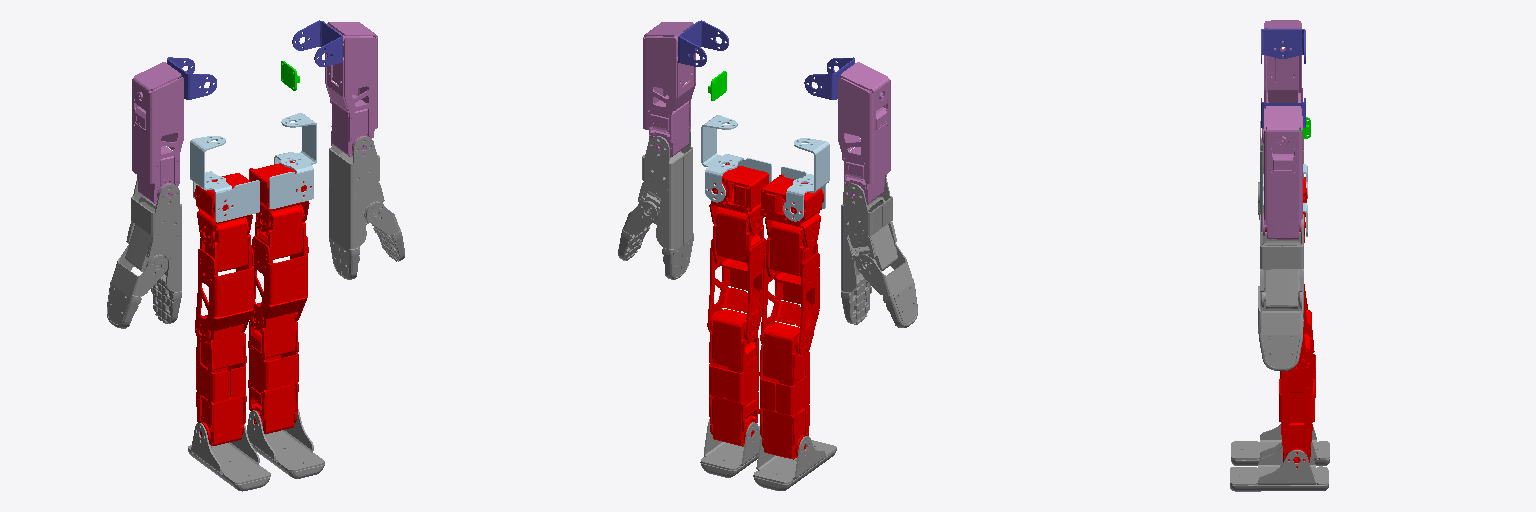
The robot description file, URDF, robot "z-bot2_fe_urdf":
<?xml version="1.0" ?>
<robot name="z-bot2_fe_urdf">
  <joint name="imu" type="fixed">
    <origin xyz="0.041000 0.010001 -0.030001" rpy="1.570000 0 -1.570000"/>
    <parent link="Z-BOT2_MASTER-BODY-SKELETON"/>
    <child link="IMU"/>
  </joint>
  <joint name="left_shoulder_yaw" type="revolute">
    <origin xyz="0.060002 -0.011000 -0.010001" rpy="1.570000 0 -3.140000"/>
    <parent link="Z-BOT2_MASTER-BODY-SKELETON"/>
    <child link="Z-BOT2-MASTER-SHOULDER2"/>
    <limit effort="2" velocity="2" lower="-1.047198" upper="0"/>
    <axis xyz="0 0 1"/>
  </joint>
  <joint name="right_shoulder_yaw" type="revolute">
    <origin xyz="-0.060000 -0.011000 -0.010001" rpy="-1.570000 0 0"/>
    <parent link="Z-BOT2_MASTER-BODY-SKELETON"/>
    <child link="Z-BOT2-MASTER-SHOULDER2_2"/>
    <limit effort="2" velocity="2" lower="0" upper="1.047198"/>
    <axis xyz="0 0 1"/>
  </joint>
  <joint name="left_hip_yaw" type="revolute">
    <origin xyz="0.040000 0.009998 -0.079000" rpy="3.140000 0 3.140000"/>
    <parent link="Z-BOT2_MASTER-BODY-SKELETON"/>
    <child link="U-HIP-L"/>
    <limit effort="2" velocity="2" lower="-1.047198" upper="1.047198"/>
    <axis xyz="0 0 1"/>
  </joint>
  <joint name="right_hip_yaw" type="revolute">
    <origin xyz="-0.040000 0.009998 -0.079000" rpy="3.140000 0 3.140000"/>
    <parent link="Z-BOT2_MASTER-BODY-SKELETON"/>
    <child link="U-HIP-R"/>
    <limit effort="2" velocity="2" lower="-1.047198" upper="1.047198"/>
    <axis xyz="0 0 1"/>
  </joint>
  <joint name="left_shoulder_pitch" type="revolute">
    <origin xyz="-0.020845 -0.004900 0.018800" rpy="-1.570796 0 -1.570796"/>
    <parent link="Z-BOT2-MASTER-SHOULDER2"/>
    <child link="3215_1Flange"/>
    <limit effort="2" velocity="2" lower="-2.967060" upper="3.141593"/>
    <axis xyz="0 0 1"/>
  </joint>
  <joint name="right_shoulder_pitch" type="revolute">
    <origin xyz="-0.020845 0.004900 0.018800" rpy="1.570796 0 1.570796"/>
    <parent link="Z-BOT2-MASTER-SHOULDER2_2"/>
    <child link="3215_1Flange_2"/>
    <limit effort="2" velocity="2" lower="-3.141593" upper="2.967060"/>
    <axis xyz="0 0 1"/>
  </joint>
  <joint name="left_hip_roll" type="revolute">
    <origin xyz="0 0.017700 0.056400" rpy="-1.570796 0 0"/>
    <parent link="U-HIP-L"/>
    <child link="3215_BothFlange_5"/>
    <limit effort="2" velocity="2" lower="-0.174533" upper="1.570796"/>
    <axis xyz="0 0 -1.0"/>
  </joint>
  <joint name="right_hip_roll" type="revolute">
    <origin xyz="0 -0.017700 0.056400" rpy="-1.570796 0 -3.141593"/>
    <parent link="U-HIP-R"/>
    <child link="3215_BothFlange_6"/>
    <limit effort="2" velocity="2" lower="-1.570796" upper="0.174533"/>
    <axis xyz="0 0 1"/>
  </joint>
  <joint name="left_hip_pitch" type="revolute">
    <origin xyz="-0.006400 -0.032000 -0.017900" rpy="1.570796 0 -1.570796"/>
    <parent link="3215_BothFlange_5"/>
    <child link="3215_BothFlange_9"/>
    <limit effort="2" velocity="2" lower="-1.570796" upper="1.570796"/>
    <axis xyz="0 0 1"/>
  </joint>
  <joint name="right_hip_pitch" type="revolute">
    <origin xyz="-0.006400 -0.032000 -0.018900" rpy="1.570796 0 -1.570796"/>
    <parent link="3215_BothFlange_6"/>
    <child link="3215_BothFlange_10"/>
    <limit effort="2" velocity="2" lower="-1.570796" upper="1.570796"/>
    <axis xyz="0 0 1"/>
  </joint>
  <joint name="left_elbow" type="revolute">
    <origin xyz="0.092984 0.019800 -0.018600" rpy="1.570796 0 3.141593"/>
    <parent link="3215_1Flange"/>
    <child link="R-ARM-MIRROR-1"/>
    <limit effort="2" velocity="2" lower="-1.570796" upper="1.570796"/>
    <axis xyz="0 0 -1"/>
  </joint>
  <joint name="right_elbow" type="revolute">
    <origin xyz="0.092984 -0.019800 -0.018600" rpy="-1.570796 -1.570796 0"/>
    <parent link="3215_1Flange_2"/>
    <child link="L-ARM-MIRROR_1"/>
    <limit effort="2" velocity="2" lower="-1.570796" upper="1.570796"/>
    <axis xyz="0 0 1"/>
  </joint>
  <joint name="left_knee" type="revolute">
    <origin xyz="0.100000 0.010000 -0.001260" rpy="0 0 0"/>
    <parent link="3215_BothFlange_9"/>
    <child link="3215_BothFlange_13"/>
    <limit effort="2" velocity="2" lower="-1.221731" upper="2.792527"/>
    <axis xyz="0 0 1"/>
  </joint>
  <joint name="right_knee" type="revolute">
    <origin xyz="0.100000 -0.010000 -0.001260" rpy="0 0 0"/>
    <parent link="3215_BothFlange_10"/>
    <child link="3215_BothFlange_14"/>
    <limit effort="2" velocity="2" lower="-2.792527" upper="1.221731"/>
    <axis xyz="0 0 1"/>
  </joint>
  <joint name="left_gripper" type="revolute">
    <origin xyz="-0.066206 -0.011778 0.001260" rpy="3.141593 0 1.919862"/>
    <parent link="R-ARM-MIRROR-1"/>
    <child link="FINGER_1"/>
    <limit effort="2" velocity="2" lower="-0.349066" upper="0.698132"/>
    <axis xyz="0 0 1"/>
  </joint>
  <joint name="right_gripper" type="revolute">
    <origin xyz="-0.011778 0.066206 -0.001260" rpy="0 0 0.349066"/>
    <parent link="L-ARM-MIRROR_1"/>
    <child link="FINGER_1_2"/>
    <limit effort="2" velocity="2" lower="-0.698132" upper="0.349066"/>
    <axis xyz="0 0 1"/>
  </joint>
  <joint name="left_ankle" type="revolute">
    <origin xyz="0.100000 0 0.000800" rpy="-3.141593 0 1.570796"/>
    <parent link="3215_BothFlange_13"/>
    <child link="FOOT"/>
    <limit effort="2" velocity="2" lower="-1.570796" upper="1.570796"/>
    <axis xyz="0 0 1"/>
  </joint>
  <joint name="right_ankle" type="revolute">
    <origin xyz="0.100000 0 0.001000" rpy="-3.141593 0 -1.570796"/>
    <parent link="3215_BothFlange_14"/>
    <child link="FOOT_2"/>
    <limit effort="2" velocity="2" lower="-1.570796" upper="1.570796"/>
    <axis xyz="0 0 1"/>
  </joint>
  <link name="Z-BOT2_MASTER-BODY-SKELETON">
    <visual name="Z-BOT2_MASTER-BODY-SKELETON_visual">
      <origin xyz="0 0 0" rpy="0 0 0"/>
      <geometry name="Z-BOT2_MASTER-BODY-SKELETON_geometry">
        <mesh filename="meshes/Z-BOT2_MASTER-BODY-SKELETON.stl"/>
      </geometry>
      <material name="Z-BOT2_MASTER-BODY-SKELETON_material">
        <color rgba="0.494118 0.623529 0.749020 1"/>
      </material>
    </visual>
    <collision name="Z-BOT2_MASTER-BODY-SKELETON.collision">
      <origin xyz="0 0 0" rpy="0 0 0"/>
      <geometry name="Z-BOT2_MASTER-BODY-SKELETON_collision_geometry">
        <mesh filename="meshes/Z-BOT2_MASTER-BODY-SKELETON.collision.stl"/>
      </geometry>
    </collision>
    <inertial name="Z-BOT2_MASTER-BODY-SKELETON_inertial">
      <mass value="1.546392"/>
      <inertia ixx="0.004795" iyy="0.005455" izz="0.002588" ixy="0.000008" ixz="0.000010" iyz="-0.000041"/>
      <origin xyz="-0.000189 0.010193 -0.031201" rpy="0 0 0"/>
    </inertial>
  </link>
  <link name="IMU">
    <visual name="IMU_visual">
      <origin xyz="0 0 0" rpy="0 0 0"/>
      <geometry name="IMU_geometry">
        <mesh filename="meshes/IMU.stl"/>
      </geometry>
      <material name="IMU_material">
        <color rgba="0 1 0 1"/>
      </material>
    </visual>
    <inertial name="IMU_inertial">
      <mass value="0.001887"/>
      <inertia ixx="0.000001" iyy="0.000001" izz="0.000001" ixy="0" ixz="0" iyz="0"/>
      <origin xyz="-0.010000 -0.007500 -0.001235" rpy="0 0 0"/>
    </inertial>
  </link>
  <link name="Z-BOT2-MASTER-SHOULDER2">
    <visual name="Z-BOT2-MASTER-SHOULDER2_visual">
      <origin xyz="0 0 0" rpy="0 0 0"/>
      <geometry name="Z-BOT2-MASTER-SHOULDER2_geometry">
        <mesh filename="meshes/Z-BOT2-MASTER-SHOULDER2.stl"/>
      </geometry>
      <material name="Z-BOT2-MASTER-SHOULDER2_material">
        <color rgba="0.364706 0.360784 0.749020 1"/>
      </material>
    </visual>
    <inertial name="Z-BOT2-MASTER-SHOULDER2_inertial">
      <mass value="0.024098"/>
      <inertia ixx="0.000007" iyy="0.000008" izz="0.000003" ixy="0" ixz="0" iyz="0"/>
      <origin xyz="-0.012788 0.001374 0.018800" rpy="0 0 0"/>
    </inertial>
  </link>
  <link name="Z-BOT2-MASTER-SHOULDER2_2">
    <visual name="Z-BOT2-MASTER-SHOULDER2_visual_2">
      <origin xyz="0 0 0" rpy="0 0 0"/>
      <geometry name="Z-BOT2-MASTER-SHOULDER2_geometry_2">
        <mesh filename="meshes/Z-BOT2-MASTER-SHOULDER2_2.stl"/>
      </geometry>
      <material name="Z-BOT2-MASTER-SHOULDER2_material_2">
        <color rgba="0.364706 0.360784 0.749020 1"/>
      </material>
    </visual>
    <inertial name="Z-BOT2-MASTER-SHOULDER2_inertial_2">
      <mass value="0.024098"/>
      <inertia ixx="0.000007" iyy="0.000008" izz="0.000003" ixy="0" ixz="0" iyz="0"/>
      <origin xyz="-0.012788 -0.001374 0.018800" rpy="0 0 0"/>
    </inertial>
  </link>
  <link name="U-HIP-L">
    <visual name="U-HIP-L_visual">
      <origin xyz="0 0 0" rpy="0 0 0"/>
      <geometry name="U-HIP-L_geometry">
        <mesh filename="meshes/U-HIP-L.stl"/>
      </geometry>
      <material name="U-HIP-L_material">
        <color rgba="0.768627 0.886275 0.952941 1"/>
      </material>
    </visual>
    <inertial name="U-HIP-L_inertial">
      <mass value="0.047132"/>
      <inertia ixx="0.000029" iyy="0.000030" izz="0.000019" ixy="0.000004" ixz="-0.000008" iyz="0.000004"/>
      <origin xyz="-0.001161 -0.004396 0.035396" rpy="0 0 0"/>
    </inertial>
  </link>
  <link name="U-HIP-R">
    <visual name="U-HIP-R_visual">
      <origin xyz="0 0 0" rpy="0 0 0"/>
      <geometry name="U-HIP-R_geometry">
        <mesh filename="meshes/U-HIP-R.stl"/>
      </geometry>
      <material name="U-HIP-R_material">
        <color rgba="0.768627 0.886275 0.952941 1"/>
      </material>
    </visual>
    <inertial name="U-HIP-R_inertial">
      <mass value="0.047132"/>
      <inertia ixx="0.000029" iyy="0.000030" izz="0.000019" ixy="-0.000004" ixz="0.000008" iyz="0.000004"/>
      <origin xyz="0.001161 -0.004396 0.035396" rpy="0 0 0"/>
    </inertial>
  </link>
  <link name="3215_1Flange">
    <visual name="3215_1Flange_visual">
      <origin xyz="0 0 0" rpy="0 0 0"/>
      <geometry name="3215_1Flange_geometry">
        <mesh filename="meshes/3215_1Flange.stl"/>
      </geometry>
      <material name="3215_1Flange_material">
        <color rgba="0.749020 0.498039 0.725490 1"/>
      </material>
    </visual>
    <collision name="3215_1Flange.collision">
      <origin xyz="0 0 0" rpy="0 0 0"/>
      <geometry name="3215_1Flange_collision_geometry">
        <mesh filename="meshes/3215_1Flange.collision.stl"/>
      </geometry>
    </collision>
    <inertial name="3215_1Flange_inertial">
      <mass value="0.181960"/>
      <inertia ixx="0.000054" iyy="0.000228" izz="0.000232" ixy="-0.000004" ixz="0.000006" iyz="0"/>
      <origin xyz="0.033642 0.000438 -0.019963" rpy="0 0 0"/>
    </inertial>
  </link>
  <link name="3215_1Flange_2">
    <visual name="3215_1Flange_visual_2">
      <origin xyz="0 0 0" rpy="0 0 0"/>
      <geometry name="3215_1Flange_geometry_2">
        <mesh filename="meshes/3215_1Flange_2.stl"/>
      </geometry>
      <material name="3215_1Flange_material_2">
        <color rgba="0.749020 0.498039 0.725490 1"/>
      </material>
    </visual>
    <collision name="3215_1Flange.collision_2">
      <origin xyz="0 0 0" rpy="0 0 0"/>
      <geometry name="3215_1Flange_collision_geometry_2">
        <mesh filename="meshes/3215_1Flange_2.collision.stl"/>
      </geometry>
    </collision>
    <inertial name="3215_1Flange_inertial_2">
      <mass value="0.181960"/>
      <inertia ixx="0.000054" iyy="0.000228" izz="0.000232" ixy="0.000004" ixz="0.000006" iyz="0"/>
      <origin xyz="0.033642 -0.000433 -0.019968" rpy="0 0 0"/>
    </inertial>
  </link>
  <link name="3215_BothFlange_5">
    <visual name="3215_BothFlange_visual_5">
      <origin xyz="0 0 0" rpy="0 0 0"/>
      <geometry name="3215_BothFlange_geometry_5">
        <mesh filename="meshes/3215_BothFlange_5.stl"/>
      </geometry>
      <material name="3215_BothFlange_material_5">
        <color rgba="1 0 0 1"/>
      </material>
    </visual>
    <inertial name="3215_BothFlange_inertial_5">
      <mass value="0.068295"/>
      <inertia ixx="0.000019" iyy="0.000024" izz="0.000025" ixy="0" ixz="0" iyz="0"/>
      <origin xyz="0.012332 -0.008997 -0.018508" rpy="0 0 0"/>
    </inertial>
  </link>
  <link name="3215_BothFlange_6">
    <visual name="3215_BothFlange_visual_6">
      <origin xyz="0 0 0" rpy="0 0 0"/>
      <geometry name="3215_BothFlange_geometry_6">
        <mesh filename="meshes/3215_BothFlange_6.stl"/>
      </geometry>
      <material name="3215_BothFlange_material_6">
        <color rgba="1 0 0 1"/>
      </material>
    </visual>
    <inertial name="3215_BothFlange_inertial_6">
      <mass value="0.068295"/>
      <inertia ixx="0.000019" iyy="0.000024" izz="0.000025" ixy="0" ixz="0" iyz="0"/>
      <origin xyz="0.012332 -0.008983 -0.017811" rpy="0 0 0"/>
    </inertial>
  </link>
  <link name="3215_BothFlange_9">
    <visual name="3215_BothFlange_visual_9">
      <origin xyz="0 0 0" rpy="0 0 0"/>
      <geometry name="3215_BothFlange_geometry_9">
        <mesh filename="meshes/3215_BothFlange_9.stl"/>
      </geometry>
      <material name="3215_BothFlange_material_9">
        <color rgba="1 0 0 1"/>
      </material>
    </visual>
    <collision name="3215_BothFlange.collision_9">
      <origin xyz="0 0 0" rpy="0 0 0"/>
      <geometry name="3215_BothFlange_collision_geometry_9">
        <mesh filename="meshes/3215_BothFlange_9.collision.stl"/>
      </geometry>
    </collision>
    <inertial name="3215_BothFlange_inertial_9">
      <mass value="0.143337"/>
      <inertia ixx="0.000049" iyy="0.000148" izz="0.000128" ixy="0.000003" ixz="0.000002" iyz="0"/>
      <origin xyz="0.043662 -0.002857 -0.018525" rpy="0 0 0"/>
    </inertial>
  </link>
  <link name="3215_BothFlange_10">
    <visual name="3215_BothFlange_visual_10">
      <origin xyz="0 0 0" rpy="0 0 0"/>
      <geometry name="3215_BothFlange_geometry_10">
        <mesh filename="meshes/3215_BothFlange_10.stl"/>
      </geometry>
      <material name="3215_BothFlange_material_10">
        <color rgba="1 0 0 1"/>
      </material>
    </visual>
    <collision name="3215_BothFlange.collision_10">
      <origin xyz="0 0 0" rpy="0 0 0"/>
      <geometry name="3215_BothFlange_collision_geometry_10">
        <mesh filename="meshes/3215_BothFlange_10.collision.stl"/>
      </geometry>
    </collision>
    <inertial name="3215_BothFlange_inertial_10">
      <mass value="0.143337"/>
      <inertia ixx="0.000049" iyy="0.000148" izz="0.000128" ixy="-0.000003" ixz="0.000002" iyz="0"/>
      <origin xyz="0.043662 0.002863 -0.018537" rpy="0 0 0"/>
    </inertial>
  </link>
  <link name="R-ARM-MIRROR-1">
    <visual name="R-ARM-MIRROR-1_visual">
      <origin xyz="0 0 0" rpy="0 0 0"/>
      <geometry name="R-ARM-MIRROR-1_geometry">
        <mesh filename="meshes/R-ARM-MIRROR-1.stl"/>
      </geometry>
      <material name="R-ARM-MIRROR-1_material">
        <color rgba="0.647059 0.647059 0.647059 1"/>
      </material>
    </visual>
    <collision name="R-ARM-MIRROR-1.collision">
      <origin xyz="0 0 0" rpy="0 0 0"/>
      <geometry name="R-ARM-MIRROR-1_collision_geometry">
        <mesh filename="meshes/R-ARM-MIRROR-1.collision.stl"/>
      </geometry>
    </collision>
    <inertial name="R-ARM-MIRROR-1_inertial">
      <mass value="0.186073"/>
      <inertia ixx="0.000061" iyy="0.000218" izz="0.000201" ixy="0.000021" ixz="0" iyz="0.000002"/>
      <origin xyz="-0.051119 0.001150 -0.017743" rpy="0 0 0"/>
    </inertial>
  </link>
  <link name="L-ARM-MIRROR_1">
    <visual name="L-ARM-MIRROR_1_visual">
      <origin xyz="0 0 0" rpy="0 0 0"/>
      <geometry name="L-ARM-MIRROR_1_geometry">
        <mesh filename="meshes/L-ARM-MIRROR_1.stl"/>
      </geometry>
      <material name="L-ARM-MIRROR_1_material">
        <color rgba="0.627451 0.627451 0.627451 1"/>
      </material>
    </visual>
    <collision name="L-ARM-MIRROR_1.collision">
      <origin xyz="0 0 0" rpy="0 0 0"/>
      <geometry name="L-ARM-MIRROR_1_collision_geometry">
        <mesh filename="meshes/L-ARM-MIRROR_1.collision.stl"/>
      </geometry>
    </collision>
    <inertial name="L-ARM-MIRROR_1_inertial">
      <mass value="0.186073"/>
      <inertia ixx="0.000218" iyy="0.000061" izz="0.000201" ixy="-0.000021" ixz="-0.000002" iyz="0"/>
      <origin xyz="0.001144 0.051123 0.017764" rpy="0 0 0"/>
    </inertial>
  </link>
  <link name="3215_BothFlange_13">
    <visual name="3215_BothFlange_visual_13">
      <origin xyz="0 0 0" rpy="0 0 0"/>
      <geometry name="3215_BothFlange_geometry_13">
        <mesh filename="meshes/3215_BothFlange_13.stl"/>
      </geometry>
      <material name="3215_BothFlange_material_13">
        <color rgba="1 0 0 1"/>
      </material>
    </visual>
    <collision name="3215_BothFlange.collision_13">
      <origin xyz="0 0 0" rpy="0 0 0"/>
      <geometry name="3215_BothFlange_collision_geometry_13">
        <mesh filename="meshes/3215_BothFlange_13.collision.stl"/>
      </geometry>
    </collision>
    <inertial name="3215_BothFlange_inertial_13">
      <mass value="0.128213"/>
      <inertia ixx="0.000035" iyy="0.000154" izz="0.000145" ixy="0" ixz="0" iyz="0"/>
      <origin xyz="0.050000 0 -0.017988" rpy="0 0 0"/>
    </inertial>
  </link>
  <link name="3215_BothFlange_14">
    <visual name="3215_BothFlange_visual_14">
      <origin xyz="0 0 0" rpy="0 0 0"/>
      <geometry name="3215_BothFlange_geometry_14">
        <mesh filename="meshes/3215_BothFlange_14.stl"/>
      </geometry>
      <material name="3215_BothFlange_material_14">
        <color rgba="1 0 0 1"/>
      </material>
    </visual>
    <collision name="3215_BothFlange.collision_14">
      <origin xyz="0 0 0" rpy="0 0 0"/>
      <geometry name="3215_BothFlange_collision_geometry_14">
        <mesh filename="meshes/3215_BothFlange_14.collision.stl"/>
      </geometry>
    </collision>
    <inertial name="3215_BothFlange_inertial_14">
      <mass value="0.128213"/>
      <inertia ixx="0.000036" iyy="0.000155" izz="0.000145" ixy="0" ixz="0" iyz="0"/>
      <origin xyz="0.050000 0 -0.017888" rpy="0 0 0"/>
    </inertial>
  </link>
  <link name="FINGER_1">
    <visual name="FINGER_1_visual">
      <origin xyz="0 0 0" rpy="0 0 0"/>
      <geometry name="FINGER_1_geometry">
        <mesh filename="meshes/FINGER_1.stl"/>
      </geometry>
      <material name="FINGER_1_material">
        <color rgba="0.627451 0.627451 0.627451 1"/>
      </material>
    </visual>
    <collision name="FINGER_1.collision">
      <origin xyz="0 0 0" rpy="0 0 0"/>
      <geometry name="FINGER_1_collision_geometry">
        <mesh filename="meshes/FINGER_1.collision.stl"/>
      </geometry>
    </collision>
    <inertial name="FINGER_1_inertial">
      <mass value="0.044318"/>
      <inertia ixx="0.000023" iyy="0.000010" izz="0.000016" ixy="-0.000002" ixz="0" iyz="0"/>
      <origin xyz="-0.010671 -0.028985 0.018800" rpy="0 0 0"/>
    </inertial>
  </link>
  <link name="FINGER_1_2">
    <visual name="FINGER_1_visual_2">
      <origin xyz="0 0 0" rpy="0 0 0"/>
      <geometry name="FINGER_1_geometry_2">
        <mesh filename="meshes/FINGER_1_2.stl"/>
      </geometry>
      <material name="FINGER_1_material_2">
        <color rgba="0.627451 0.627451 0.627451 1"/>
      </material>
    </visual>
    <collision name="FINGER_1.collision_2">
      <origin xyz="0 0 0" rpy="0 0 0"/>
      <geometry name="FINGER_1_collision_geometry_2">
        <mesh filename="meshes/FINGER_1_2.collision.stl"/>
      </geometry>
    </collision>
    <inertial name="FINGER_1_inertial_2">
      <mass value="0.044318"/>
      <inertia ixx="0.000023" iyy="0.000010" izz="0.000016" ixy="0.000002" ixz="0" iyz="0"/>
      <origin xyz="-0.010671 0.028985 0.018799" rpy="0 0 0"/>
    </inertial>
  </link>
  <link name="FOOT">
    <visual name="FOOT_visual">
      <origin xyz="0 0 0" rpy="0 0 0"/>
      <geometry name="FOOT_geometry">
        <mesh filename="meshes/FOOT.stl"/>
      </geometry>
      <material name="FOOT_material">
        <color rgba="0.627451 0.627451 0.627451 1"/>
      </material>
    </visual>
    <collision name="FOOT.collision">
      <origin xyz="0 0 0" rpy="0 0 0"/>
      <geometry name="FOOT_collision_geometry">
        <mesh filename="meshes/FOOT.collision.stl"/>
      </geometry>
    </collision>
    <inertial name="FOOT_inertial">
      <mass value="0.278140"/>
      <inertia ixx="0.000045" iyy="0.000205" izz="0.000182" ixy="0.000005" ixz="0" iyz="0"/>
      <origin xyz="-0.015078 0.027835 0.018700" rpy="0 0 0"/>
    </inertial>
  </link>
  <link name="FOOT_2">
    <visual name="FOOT_visual_2">
      <origin xyz="0 0 0" rpy="0 0 0"/>
      <geometry name="FOOT_geometry_2">
        <mesh filename="meshes/FOOT_2.stl"/>
      </geometry>
      <material name="FOOT_material_2">
        <color rgba="0.627451 0.627451 0.627451 1"/>
      </material>
    </visual>
    <collision name="FOOT.collision_2">
      <origin xyz="0 0 0" rpy="0 0 0"/>
      <geometry name="FOOT_collision_geometry_2">
        <mesh filename="meshes/FOOT_2.collision.stl"/>
      </geometry>
    </collision>
    <inertial name="FOOT_inertial_2">
      <mass value="0.278140"/>
      <inertia ixx="0.000045" iyy="0.000205" izz="0.000182" ixy="-0.000005" ixz="0" iyz="0"/>
      <origin xyz="-0.015078 -0.027835 0.018700" rpy="0 0 0"/>
    </inertial>
  </link>
</robot>

--- What the picture shows (computed from the rendered views, not written in the file) ---
The picture shows the robot from 3 angles, left to right: view 1: azimuth 30°, elevation 25°; view 2: azimuth 150°, elevation 25°; view 3: azimuth 270°, elevation 25°; orthographic projection.
Model z-bot2_fe_urdf with 20 links and 19 joints (18 revolute, 1 fixed), rooted at Z-BOT2_MASTER-BODY-SKELETON, posed every joint at zero.
Links seen in each view (by area): view 1: 3215_1Flange_2, 3215_BothFlange_10, R-ARM-MIRROR-1, 3215_1Flange, 3215_BothFlange_14, 3215_BothFlange_9, 3215_BothFlange_13, L-ARM-MIRROR_1, FOOT_2, FOOT, U-HIP-L, U-HIP-R (+6 smaller); view 2: 3215_1Flange_2, 3215_BothFlange_14, 3215_BothFlange_13, 3215_BothFlange_10, 3215_1Flange, R-ARM-MIRROR-1, 3215_BothFlange_9, L-ARM-MIRROR_1, FINGER_1_2, FOOT_2, U-HIP-L, 3215_BothFlange_5 (+6 smaller); view 3: 3215_1Flange, R-ARM-MIRROR-1, FOOT, 3215_BothFlange_13, FINGER_1, 3215_1Flange_2, FOOT_2, Z-BOT2-MASTER-SHOULDER2_2.
Link boxes in pixels (bbox=[...]): 3215_1Flange_2: bbox=[132, 62, 183, 203]; 3215_BothFlange_10: bbox=[195, 217, 254, 342]; R-ARM-MIRROR-1: bbox=[329, 131, 384, 279]; 3215_1Flange: bbox=[325, 22, 377, 156]; 3215_BothFlange_14: bbox=[196, 314, 246, 445]; 3215_BothFlange_9: bbox=[250, 204, 308, 329]; 3215_BothFlange_13: bbox=[248, 301, 298, 433]; L-ARM-MIRROR_1: bbox=[125, 178, 181, 323]; FOOT_2: bbox=[188, 423, 270, 491]; FOOT: bbox=[247, 409, 324, 478]; U-HIP-L: bbox=[269, 113, 316, 208]; U-HIP-R: bbox=[190, 136, 259, 222]; 3215_1Flange_2: bbox=[838, 62, 890, 204]; 3215_BothFlange_14: bbox=[759, 322, 809, 459]; 3215_BothFlange_13: bbox=[709, 309, 758, 446]; 3215_BothFlange_10: bbox=[760, 221, 819, 355]; 3215_1Flange: bbox=[643, 22, 695, 157]; R-ARM-MIRROR-1: bbox=[638, 129, 693, 279]; 3215_BothFlange_9: bbox=[707, 207, 766, 341]; L-ARM-MIRROR_1: bbox=[841, 178, 897, 324]; FINGER_1_2: bbox=[856, 243, 917, 327]; FOOT_2: bbox=[753, 436, 836, 490]; U-HIP-L: bbox=[701, 115, 771, 202]; 3215_BothFlange_5: bbox=[708, 163, 768, 234]; 3215_1Flange: bbox=[1263, 106, 1302, 239]; R-ARM-MIRROR-1: bbox=[1260, 214, 1303, 353]; FOOT: bbox=[1230, 446, 1328, 491]; 3215_BothFlange_13: bbox=[1279, 334, 1314, 467]; FINGER_1: bbox=[1258, 286, 1302, 370]; 3215_1Flange_2: bbox=[1262, 20, 1302, 143]; FOOT_2: bbox=[1231, 423, 1329, 465]; Z-BOT2-MASTER-SHOULDER2_2: bbox=[1261, 29, 1305, 63].
Bounding box of the posed robot: 0.2927 × 0.0914 × 0.4081 m (x, y, z).
Meshes: 20 distinct files referenced, 19 mesh visuals loaded (19 binary STL); not drawn: 1 (reference not matched to a file when rendering).